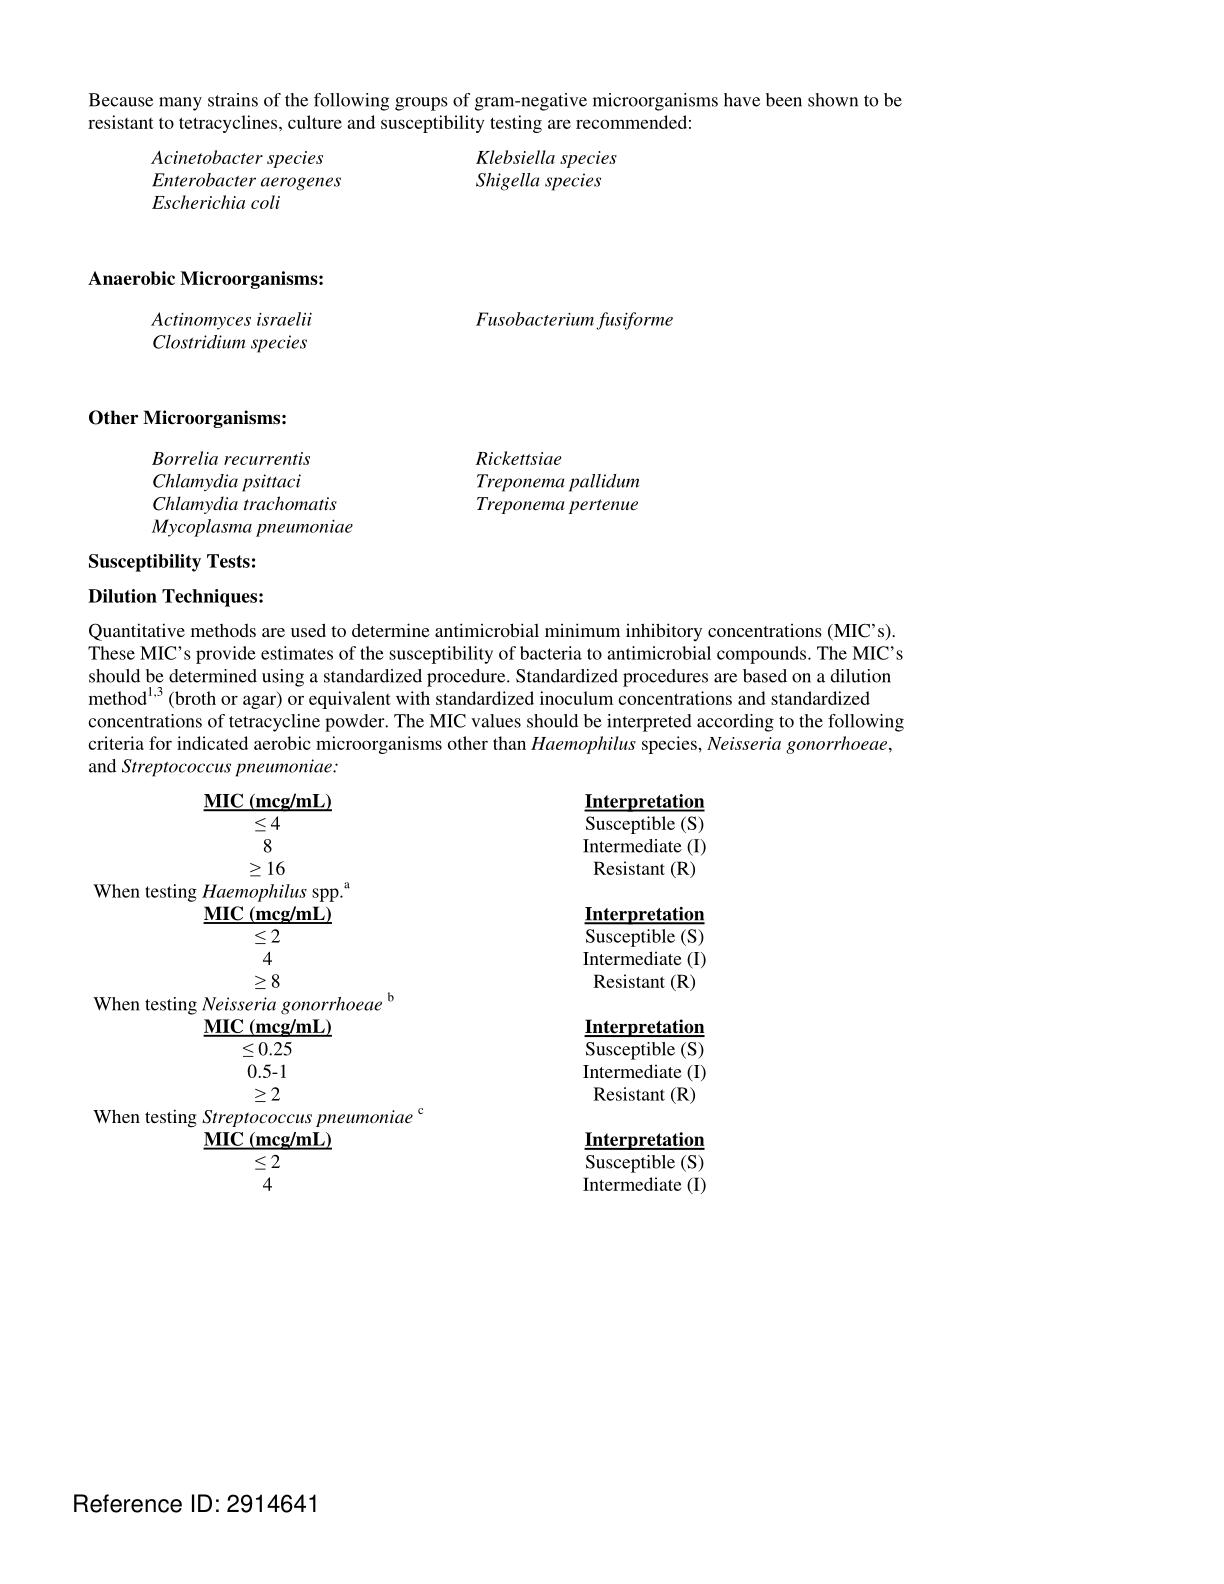nolines: (90, 788, 714, 1201), (147, 445, 645, 539), (149, 144, 620, 211), (149, 309, 678, 350)
